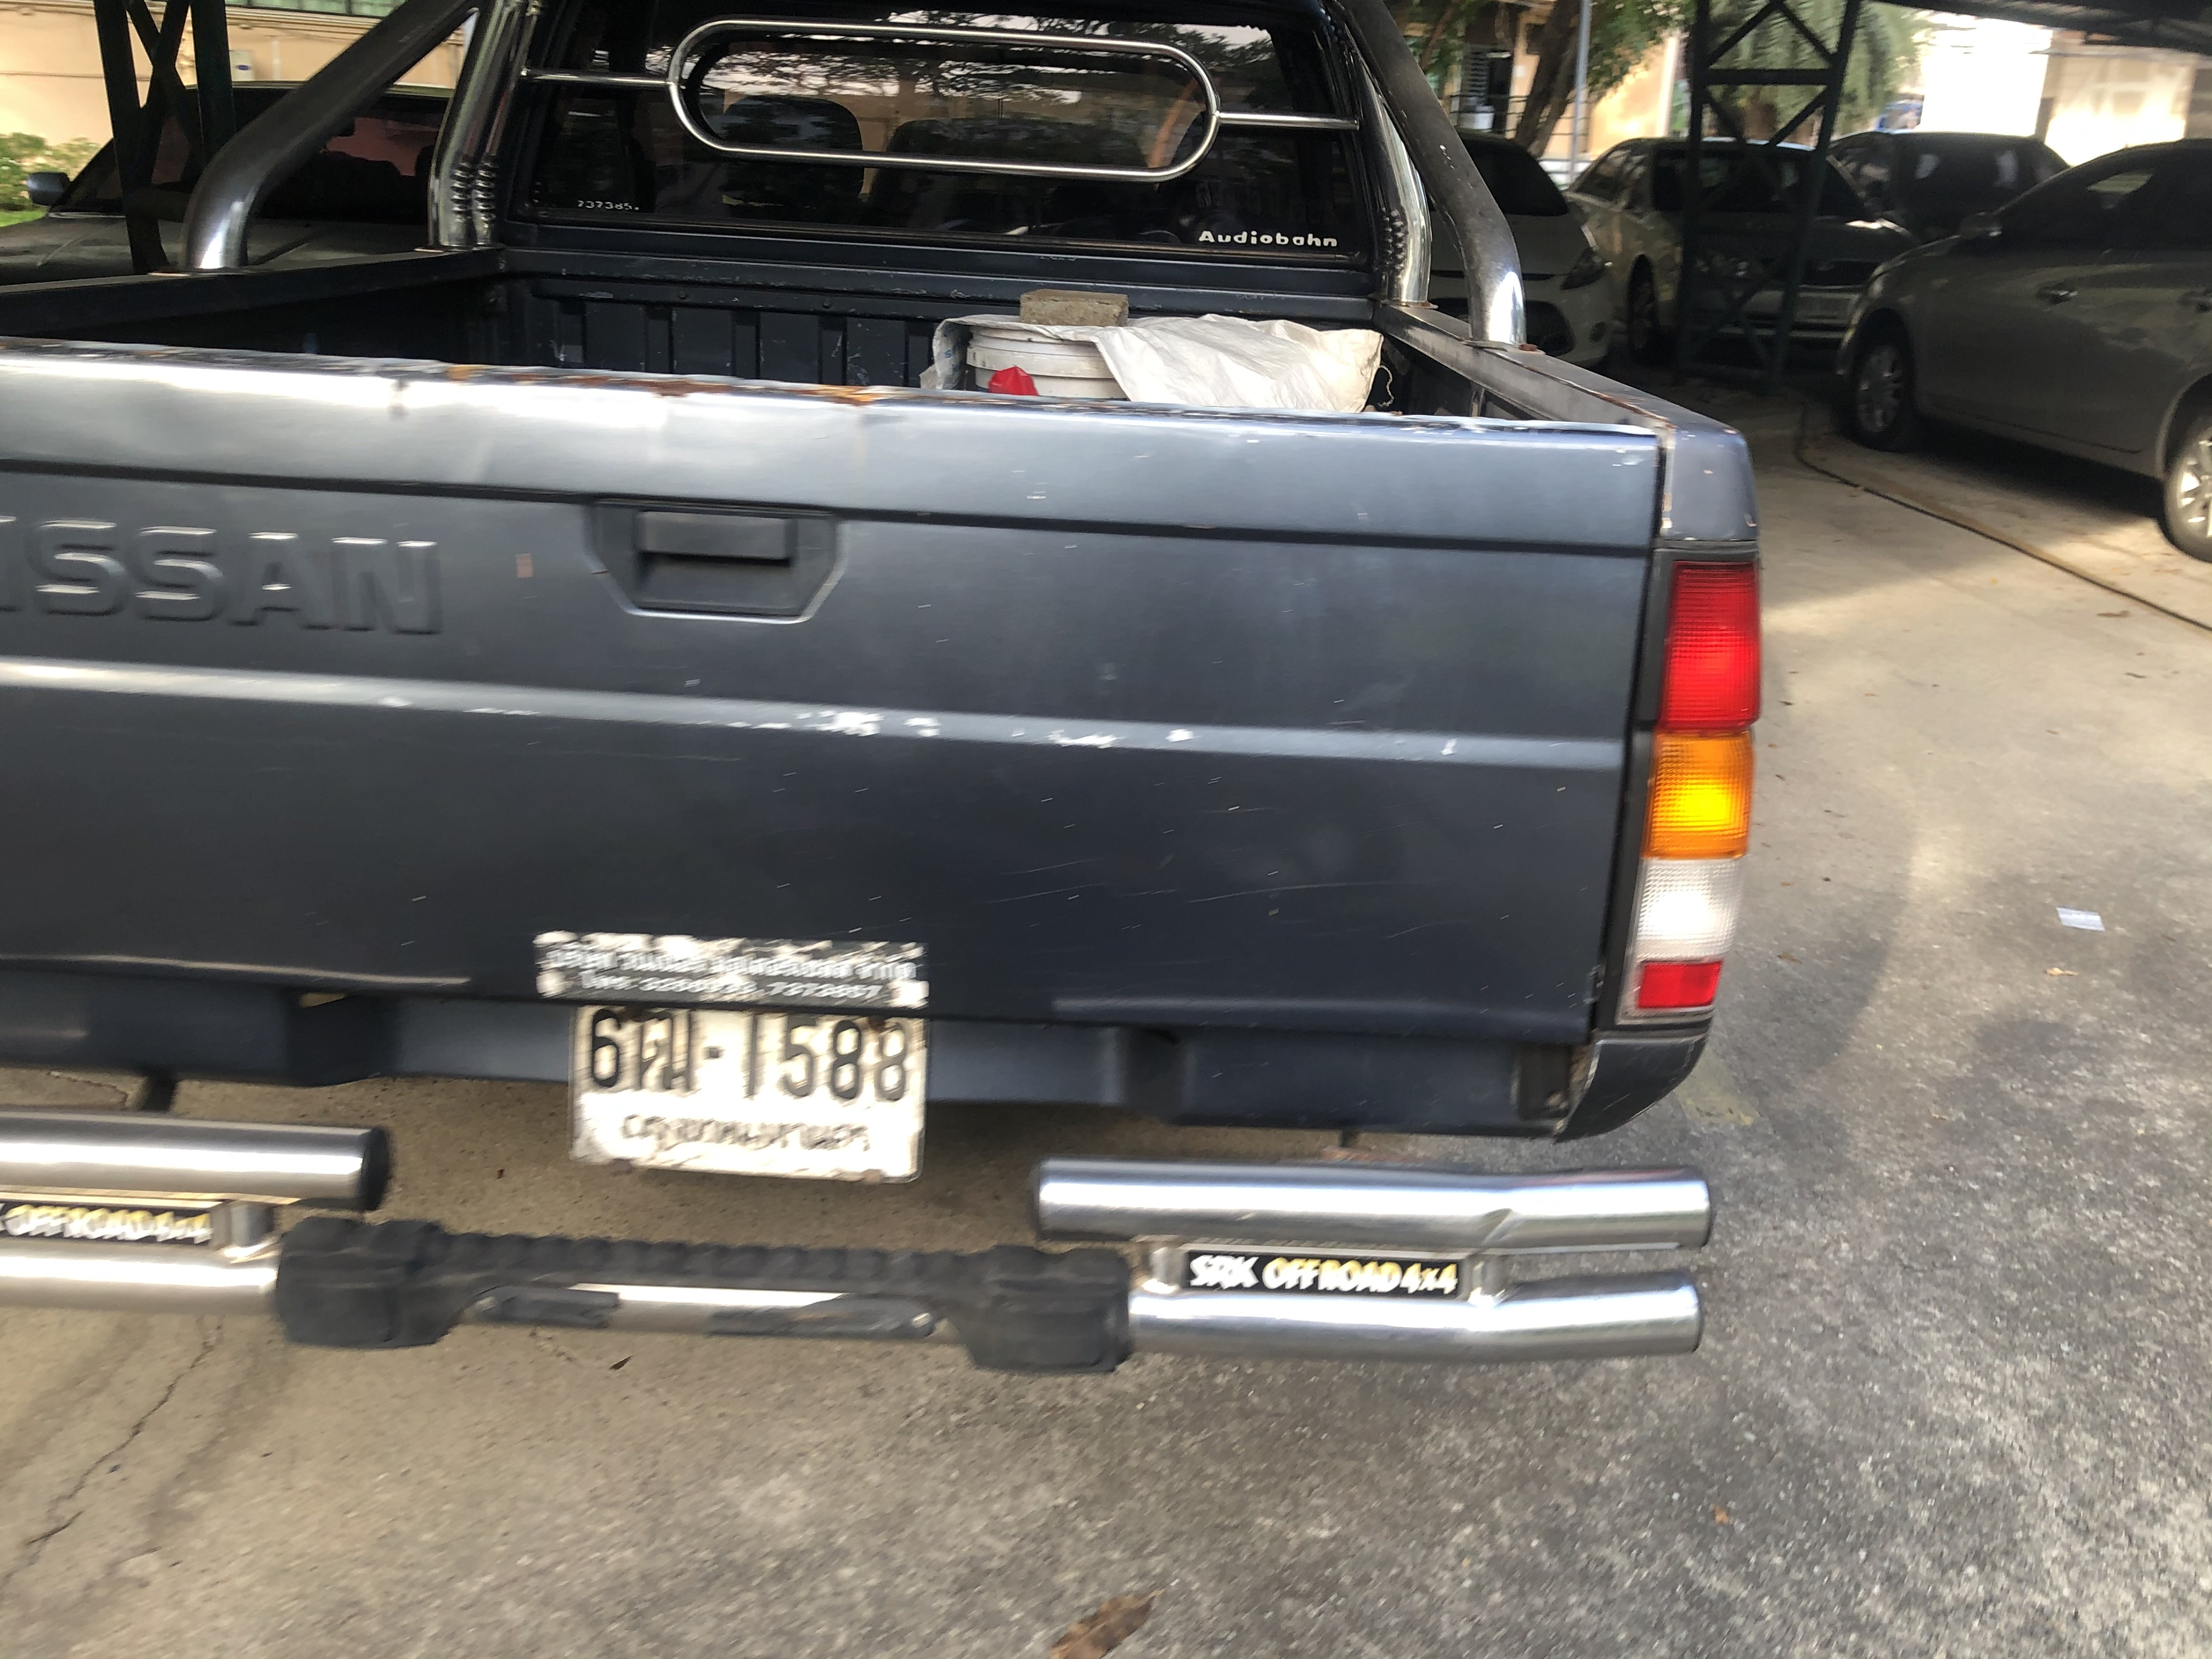in: (580, 1000, 925, 1176)
